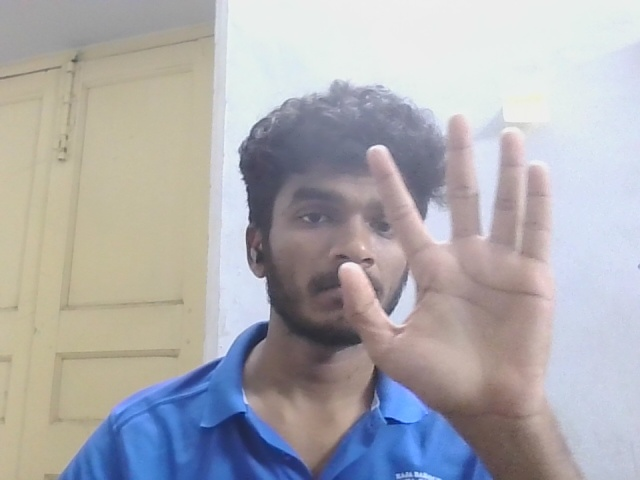Hello: (322, 95, 587, 421)
